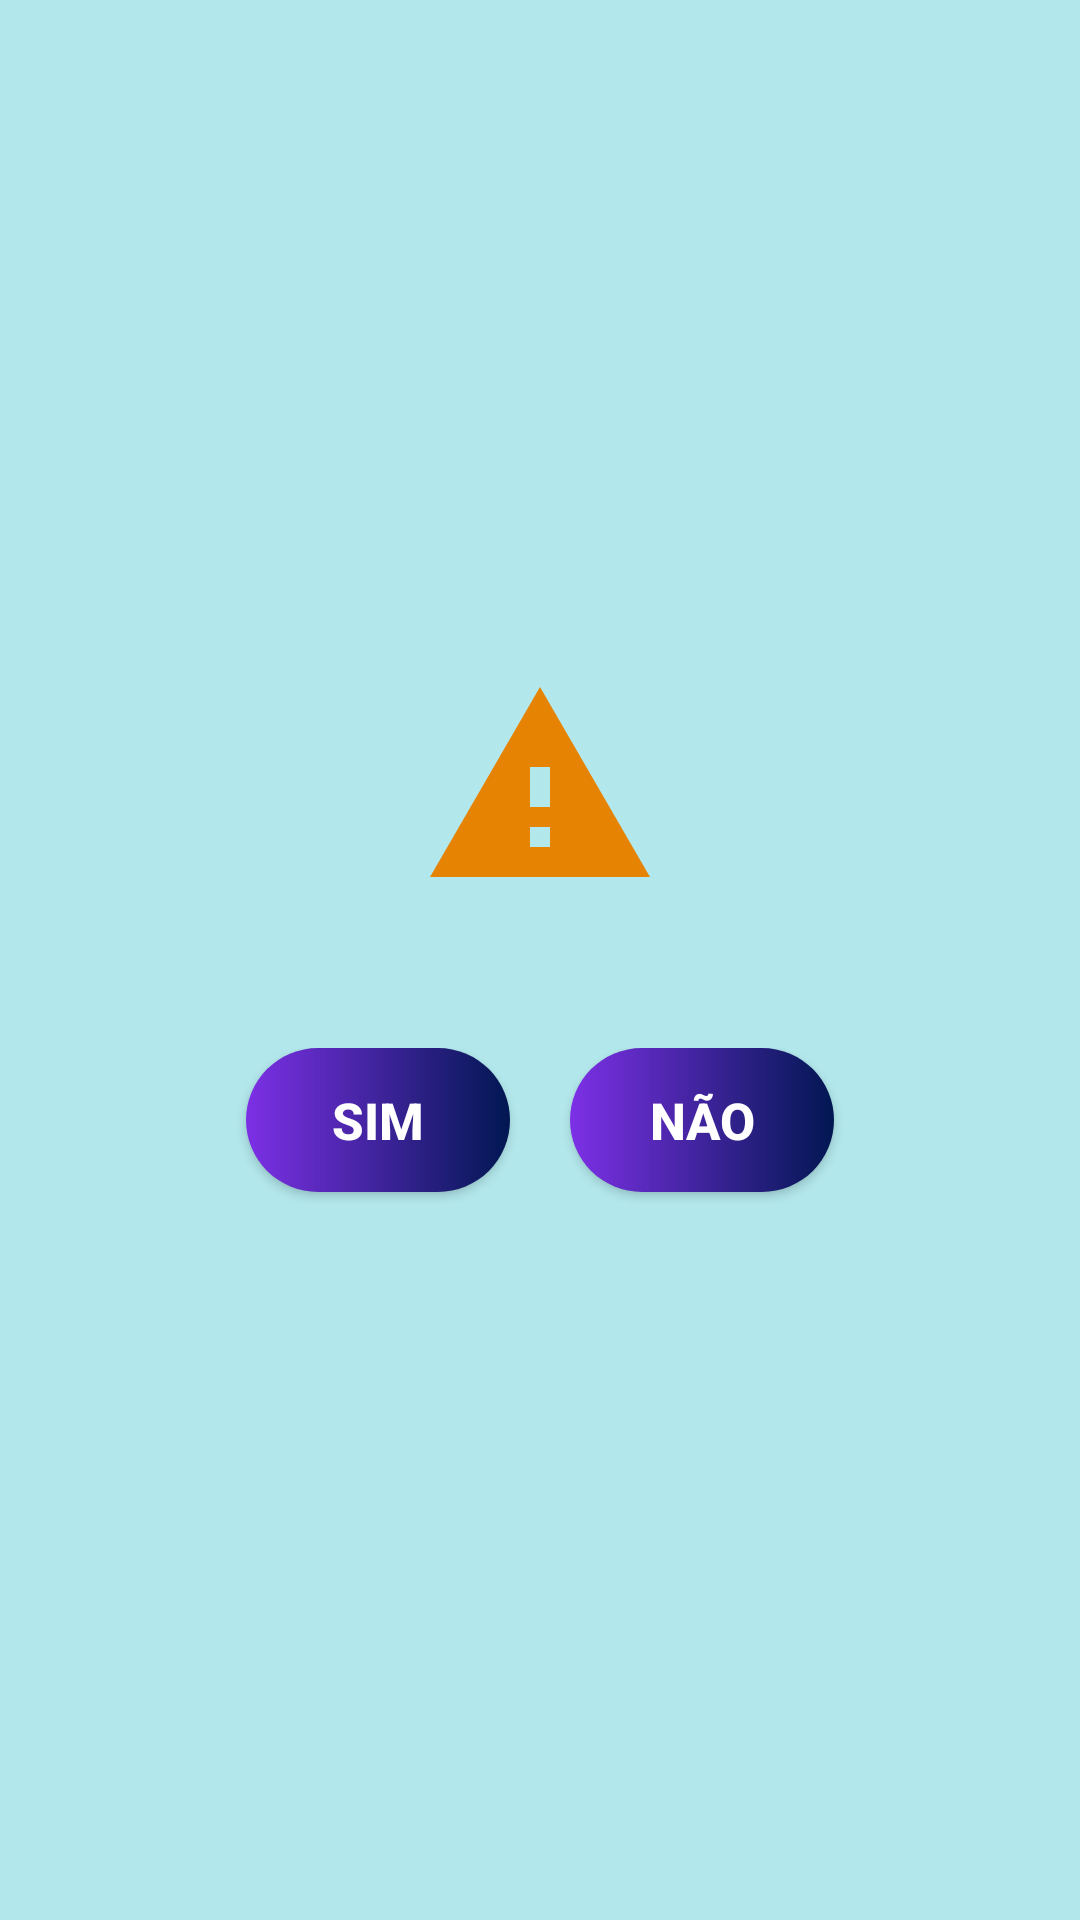

Where icons sit on this 1080x1920 app screen, as (x1, y1, x2, y2):
warning: (430, 687, 650, 877)
